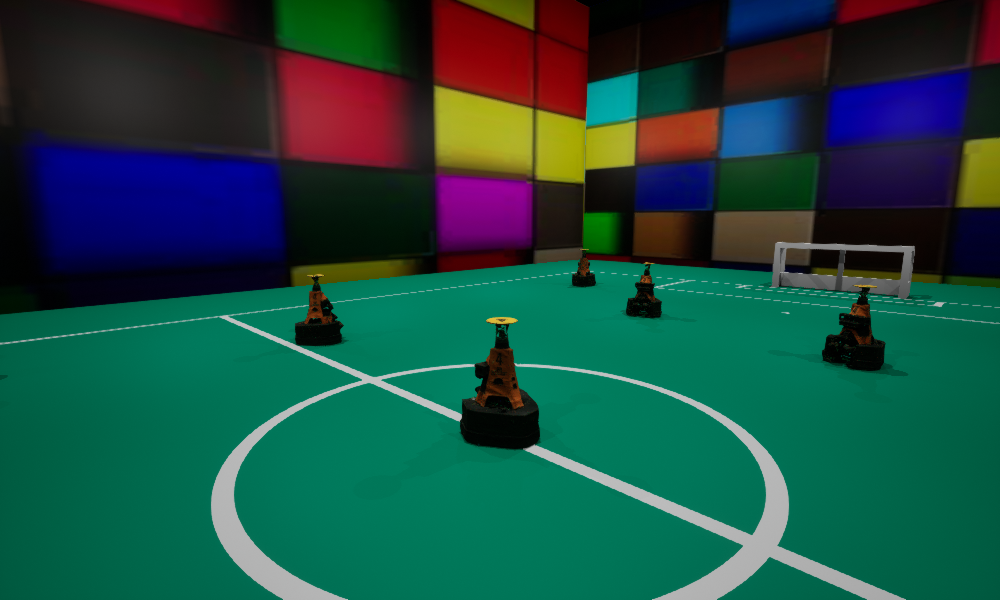o: (460, 317, 539, 448), (822, 285, 885, 370), (295, 274, 343, 345), (626, 262, 661, 317), (572, 249, 595, 286)
